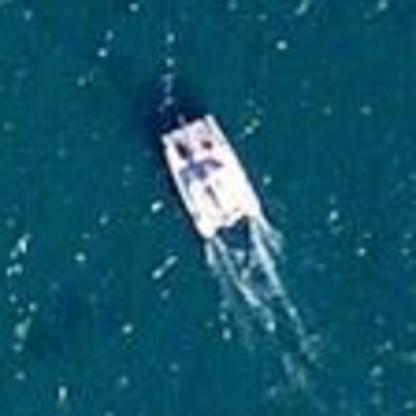ship: (146, 105, 275, 249)
